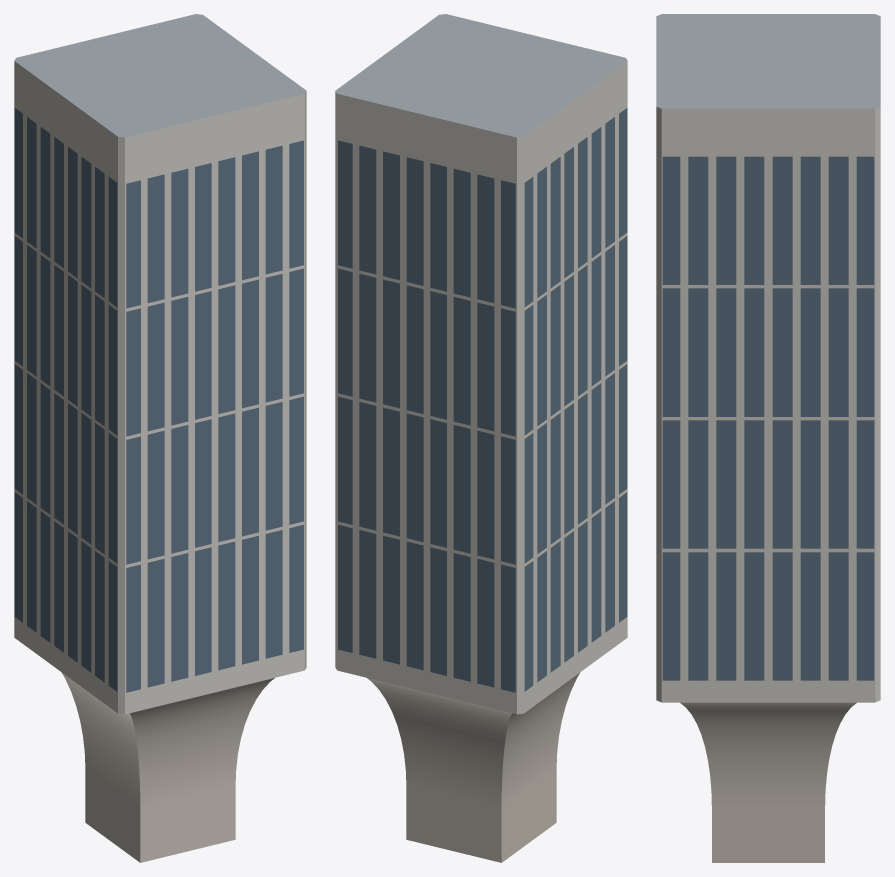
Rendered from sea-rainier-tower.glb.
3 renders of one model, left to right at view 1: azimuth 30°, elevation 25°; view 2: azimuth 150°, elevation 25°; view 3: azimuth 270°, elevation 25°, orthographic. The views are drawn at different scales.
Parts seen in each view (by area): view 1: Rainier Tower; view 2: Rainier Tower; view 3: Rainier Tower.
Boxes of the visible parts, x1,y1,x2,y2 form: Rainier Tower: (14,14,306,862); Rainier Tower: (335,14,627,862); Rainier Tower: (656,14,880,862).
Size of the model in its own units: 42.12 by 161 by 42.12.
